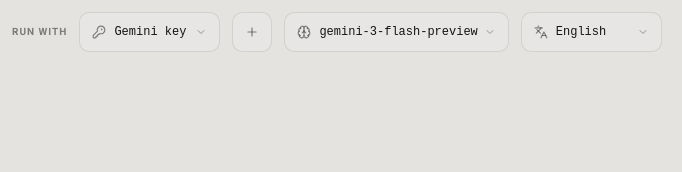
it: RunSettingsBar › switches to the model last run on the newly selected key
Select "Router key" in the dropdown named "AI key" at (151, 32), box [114,24,187,40]
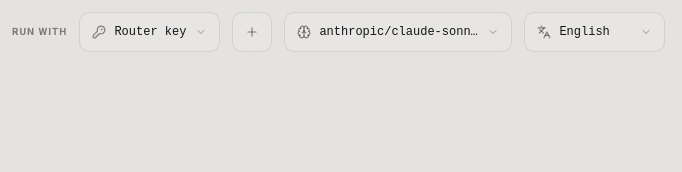
Check: the dropdown named "Inference model" reads "anthropic/claude-sonnet-5", box [319,24,499,40]
